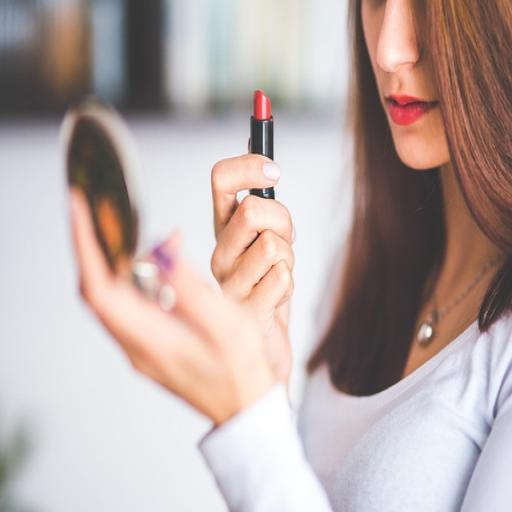lipstick: (250, 90, 273, 159), (387, 95, 437, 125)
